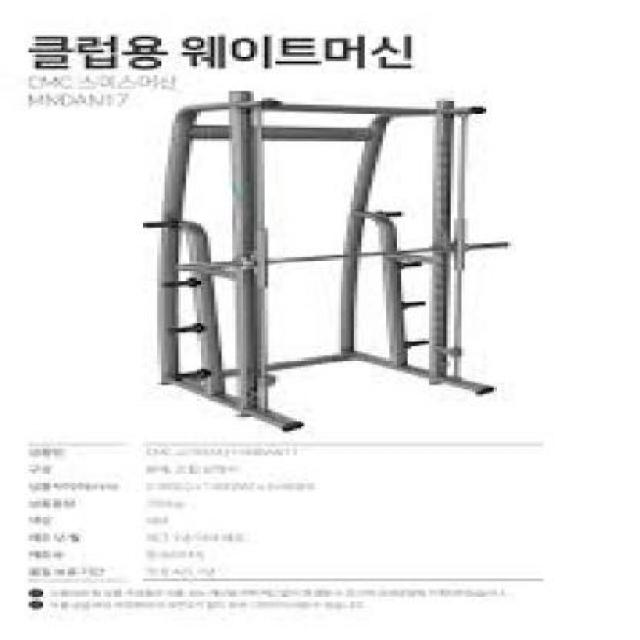smith machine: (143, 89, 505, 431)
